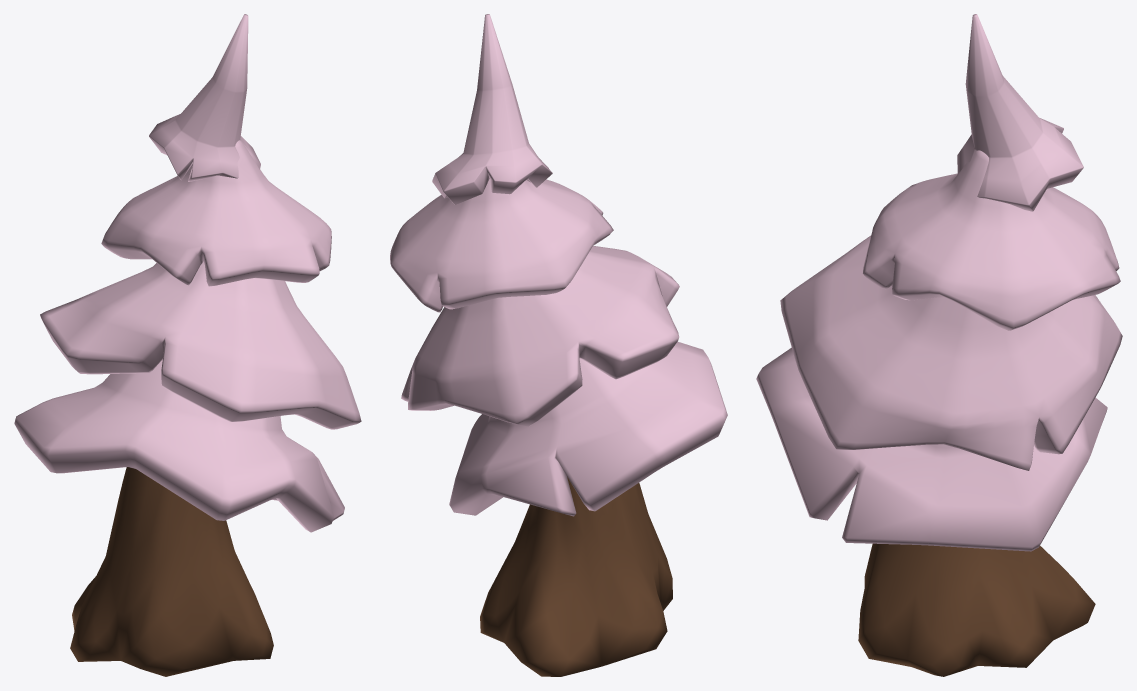
The model's file is Tree.fbx.
3 renders of one model, left to right at view 1: azimuth 30°, elevation 25°; view 2: azimuth 150°, elevation 25°; view 3: azimuth 270°, elevation 25°, orthographic. The views are drawn at different scales.
Parts seen in each view (by area): view 1: Circle.003; view 2: Circle.003; view 3: Circle.003.
Part boxes in pixels (box(x1,y1,x2,y2)): Circle.003: box(14, 14, 361, 676); Circle.003: box(390, 14, 727, 676); Circle.003: box(756, 14, 1122, 676).
Size of the model in its own units: 275 by 532 by 265.
